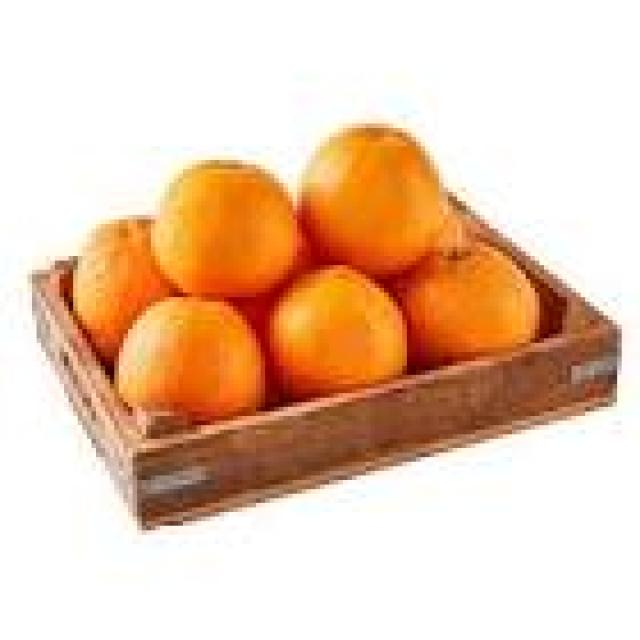orange: (300, 125, 444, 279), (152, 160, 295, 298), (115, 296, 265, 421), (395, 242, 540, 369), (270, 265, 406, 400), (401, 242, 540, 369), (75, 218, 172, 365)
